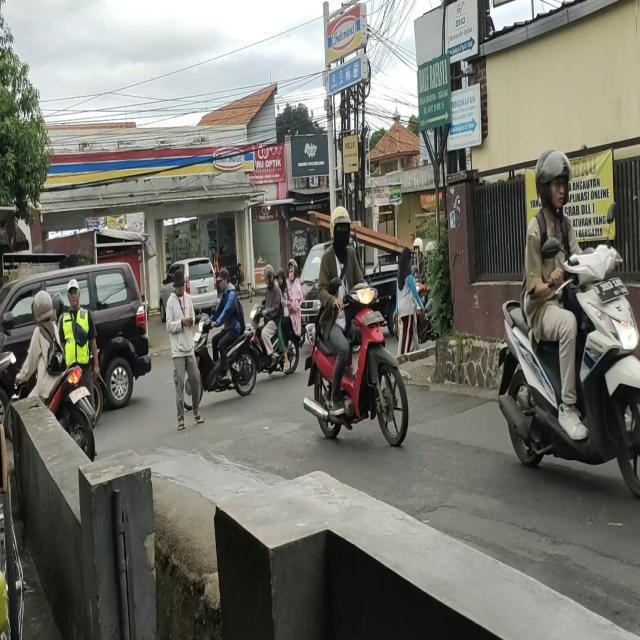helmet: (537, 149, 568, 201), (329, 203, 353, 249), (29, 288, 54, 326), (262, 262, 276, 285), (288, 260, 298, 280), (413, 239, 423, 254)
no-helmet: (215, 270, 232, 292), (278, 271, 284, 285)
